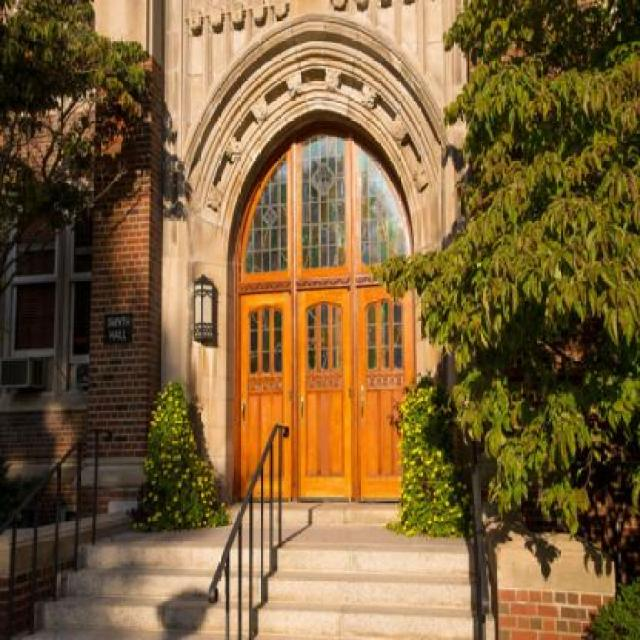stair: (0, 530, 475, 638)
